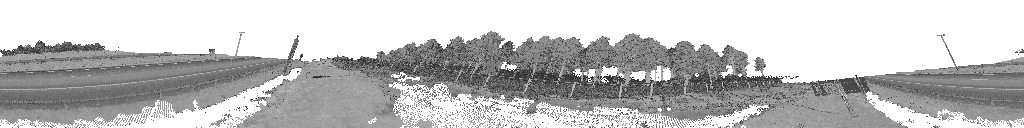light_pole: (937, 34, 958, 70), (234, 32, 244, 55)
